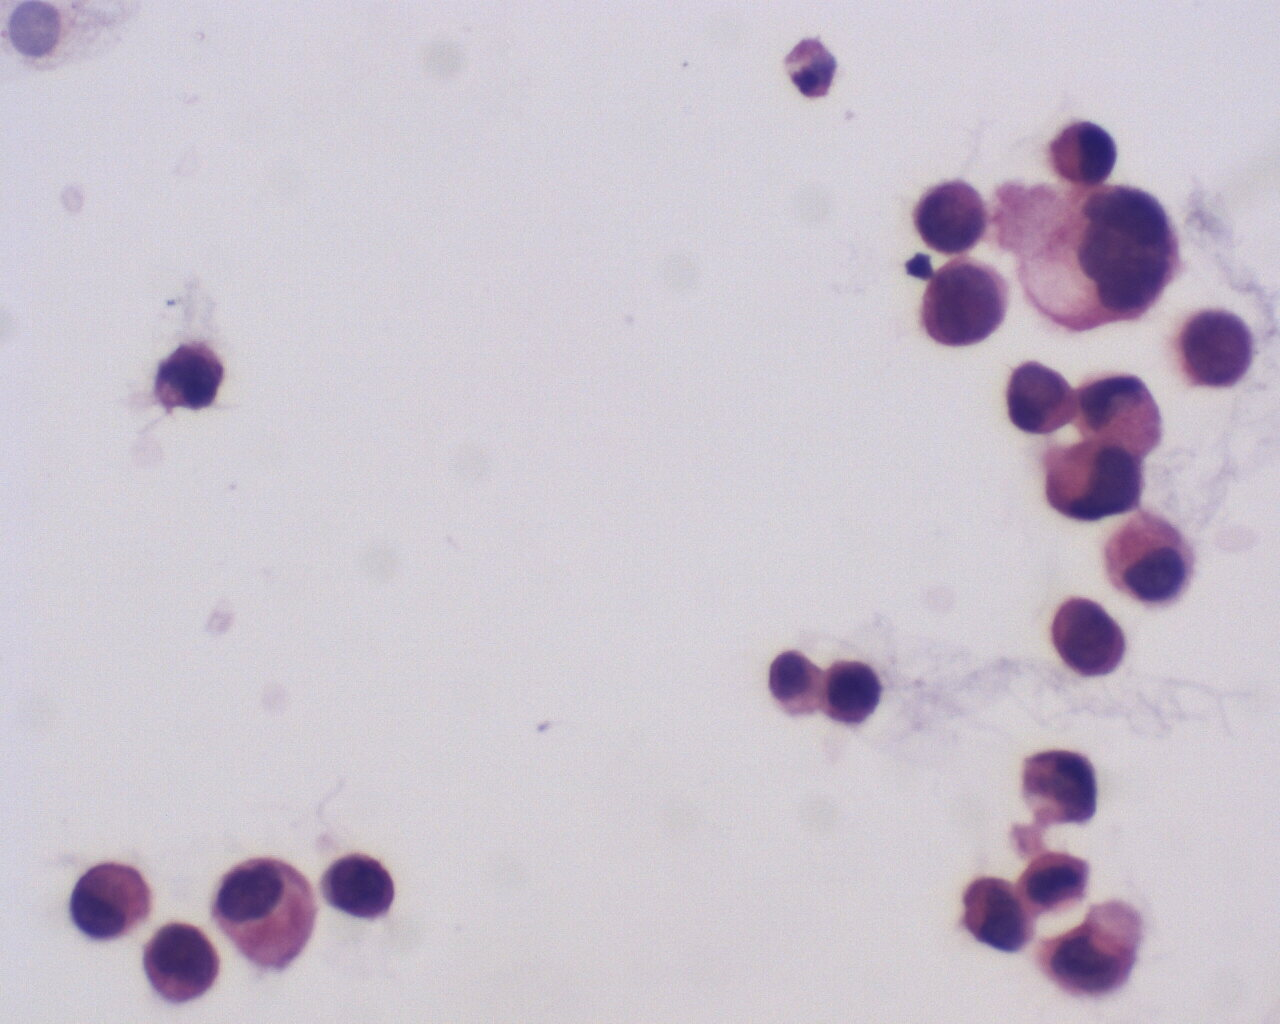ab: (1013, 174, 1179, 334), (915, 254, 1018, 354), (1046, 434, 1151, 526), (138, 917, 225, 1009), (1050, 592, 1136, 685), (1176, 300, 1258, 394), (1019, 738, 1100, 830), (904, 174, 991, 258), (317, 846, 408, 923), (1003, 356, 1078, 443), (960, 875, 1037, 955), (153, 339, 229, 417), (1021, 851, 1093, 916), (822, 652, 880, 728)
meso: (65, 855, 154, 942)
